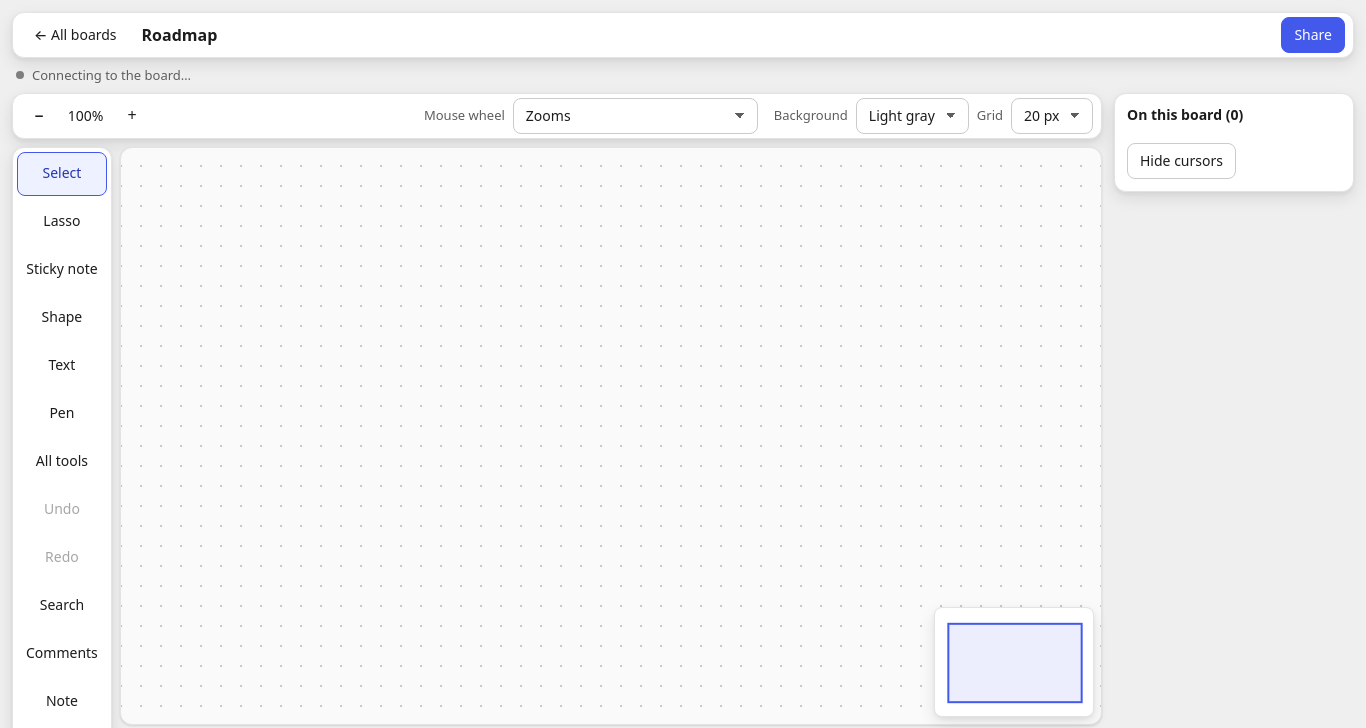
диалог Share на /boards/{id} (SHR-01, SHR-06) › SHR-06: сброс подтверждается в диалоге и показывает новую ссылку
Click the button "Share". click: {"x": 1313, "y": 35}
box: [1281,17,1345,53]
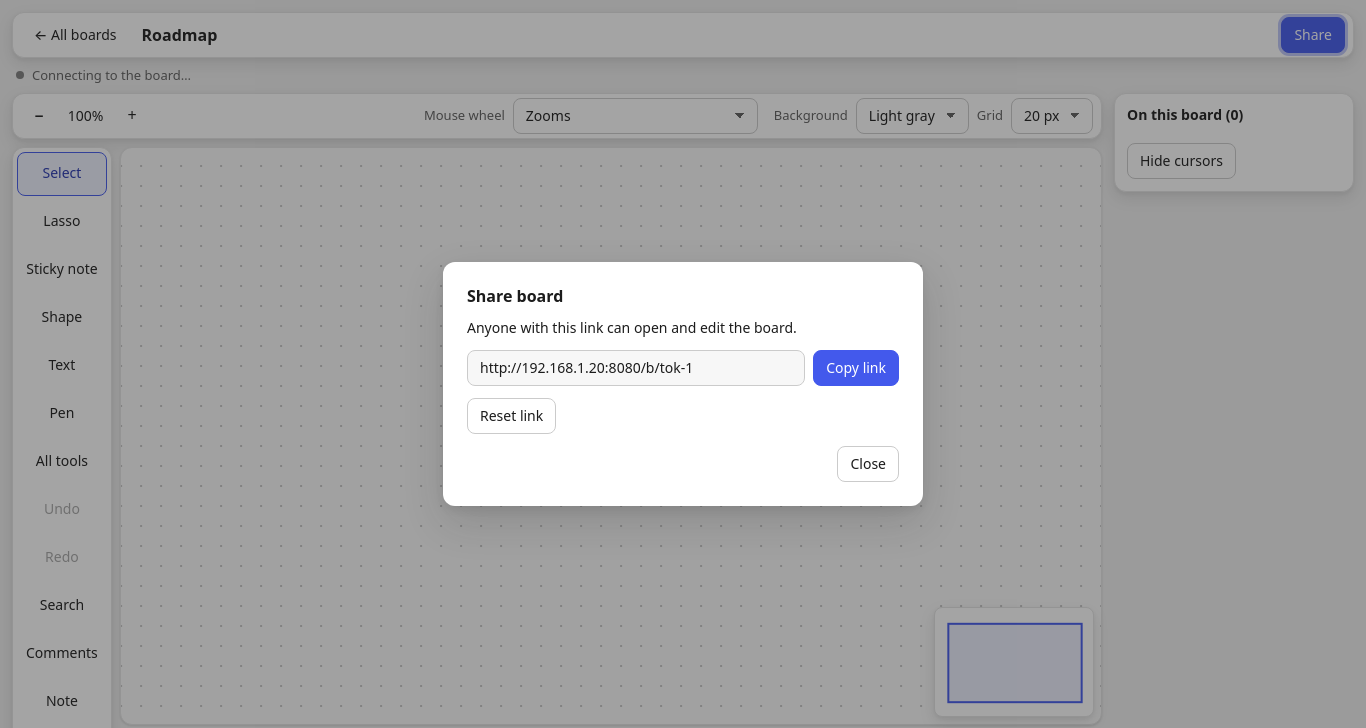
Click the button "Reset link". click: {"x": 512, "y": 416}
box: [467,398,556,434]
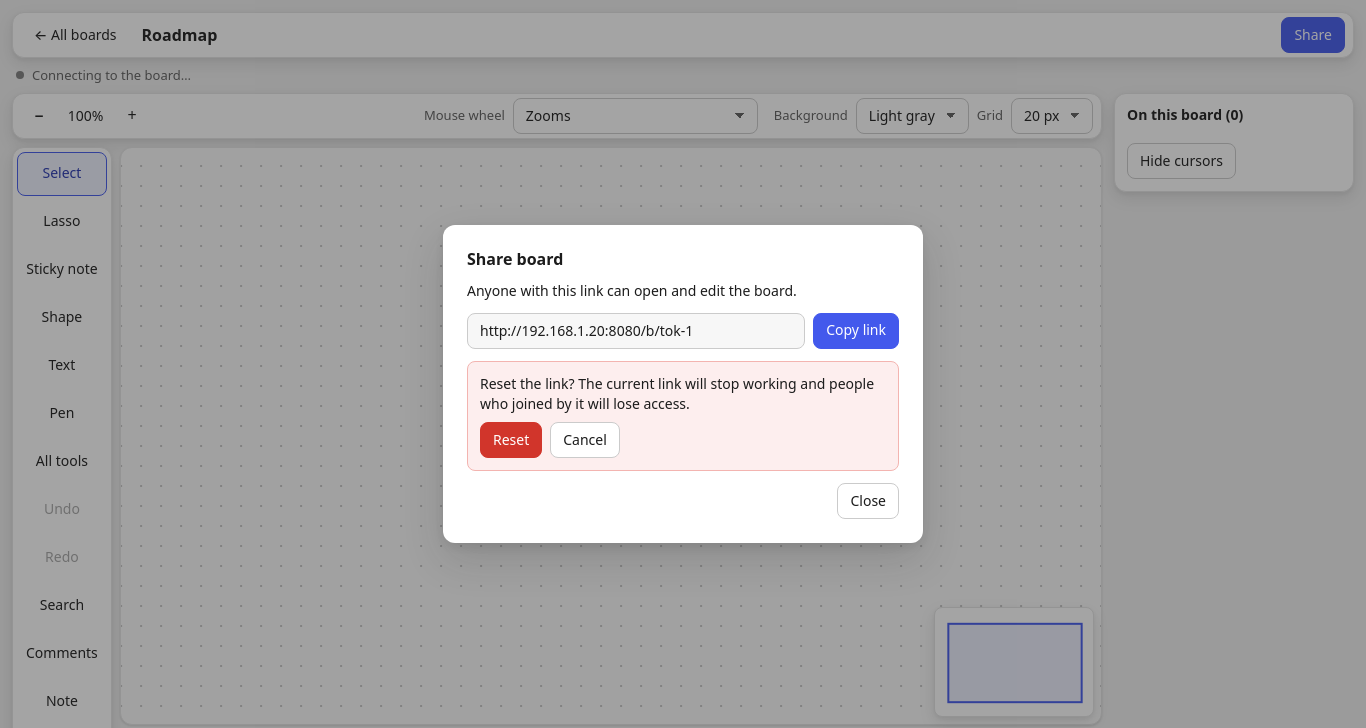
Check: the element named "Confirm reset" shows "will stop working", box [480,374,874,413]
Click the button "Reset". click: {"x": 511, "y": 440}
box: [480,422,542,458]
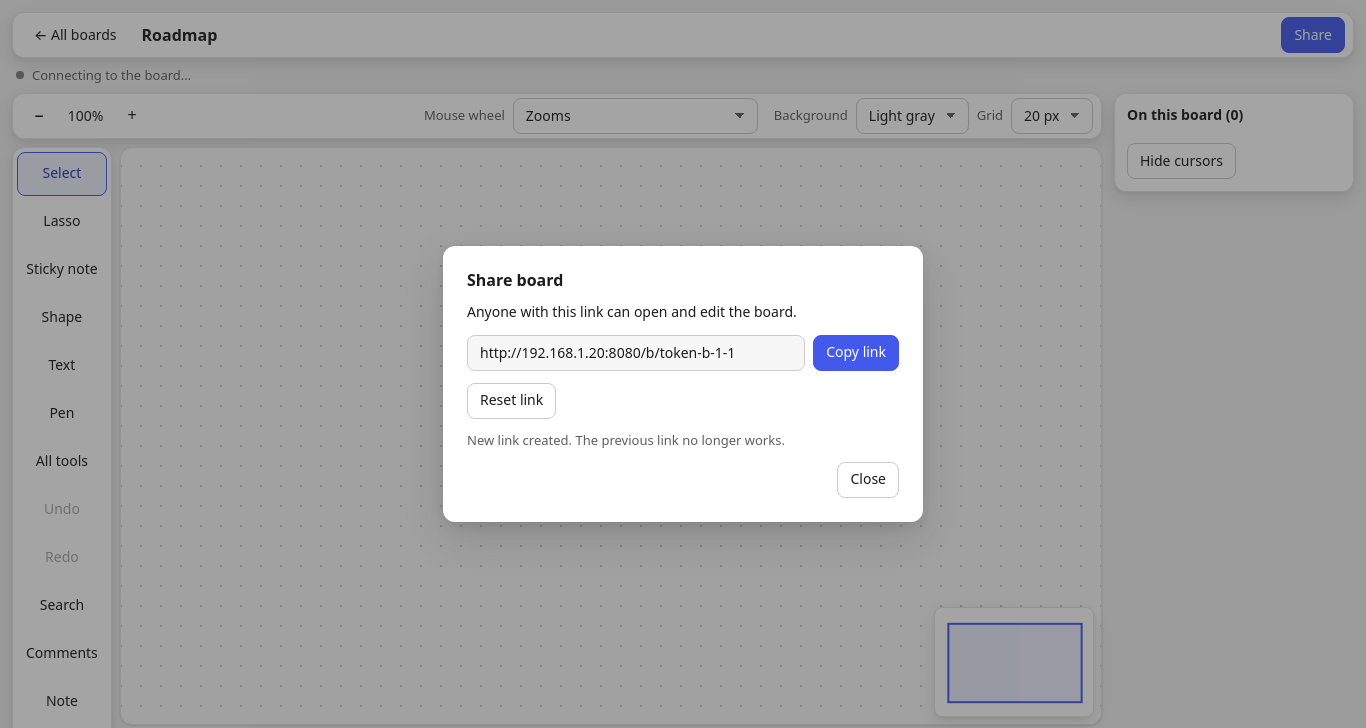
Check: the message "New link created. The previous link no longer works." is shown, box [467,431,785,449]
